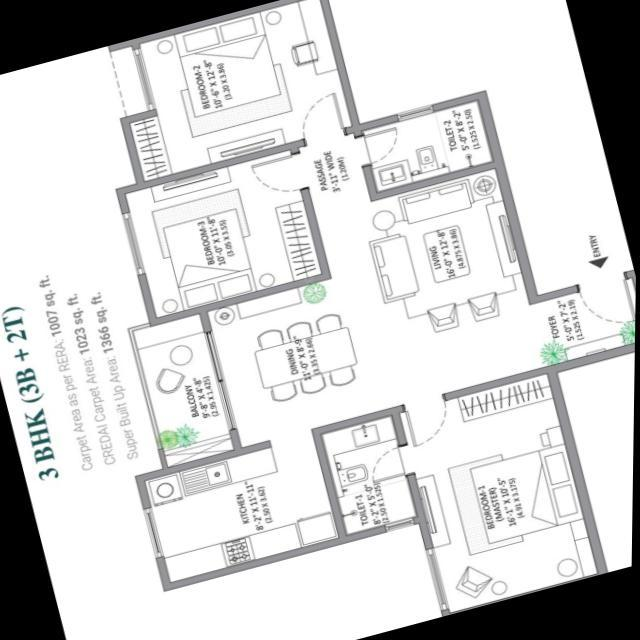Balcony-Sitout: (126, 305, 245, 474)
Bedroom: (106, 0, 362, 190), (116, 142, 329, 325)
Bedroom with Toilet: (311, 363, 610, 617)
Dining: (245, 305, 368, 408)
Enterance-Foyer: (538, 268, 637, 374)
Kitchen: (135, 428, 347, 593)
Living: (351, 160, 540, 348)
Toilet: (351, 91, 504, 202), (311, 408, 423, 543)
